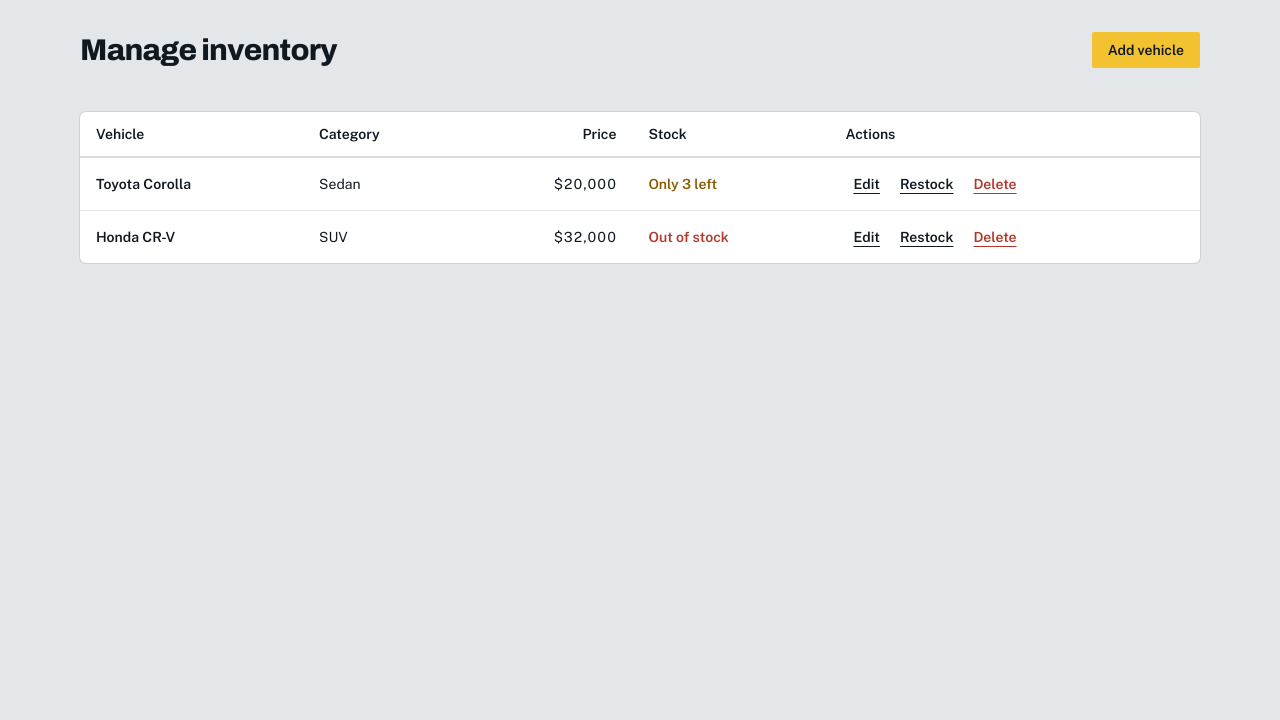
Scenario: add › keeps the form open and explains a server error
Expected: the column heading "Toyota Corolla" is shown, [96, 176, 191, 192]
Click the button "Add vehicle".
click(1146, 50)  # box [1092, 32, 1200, 68]
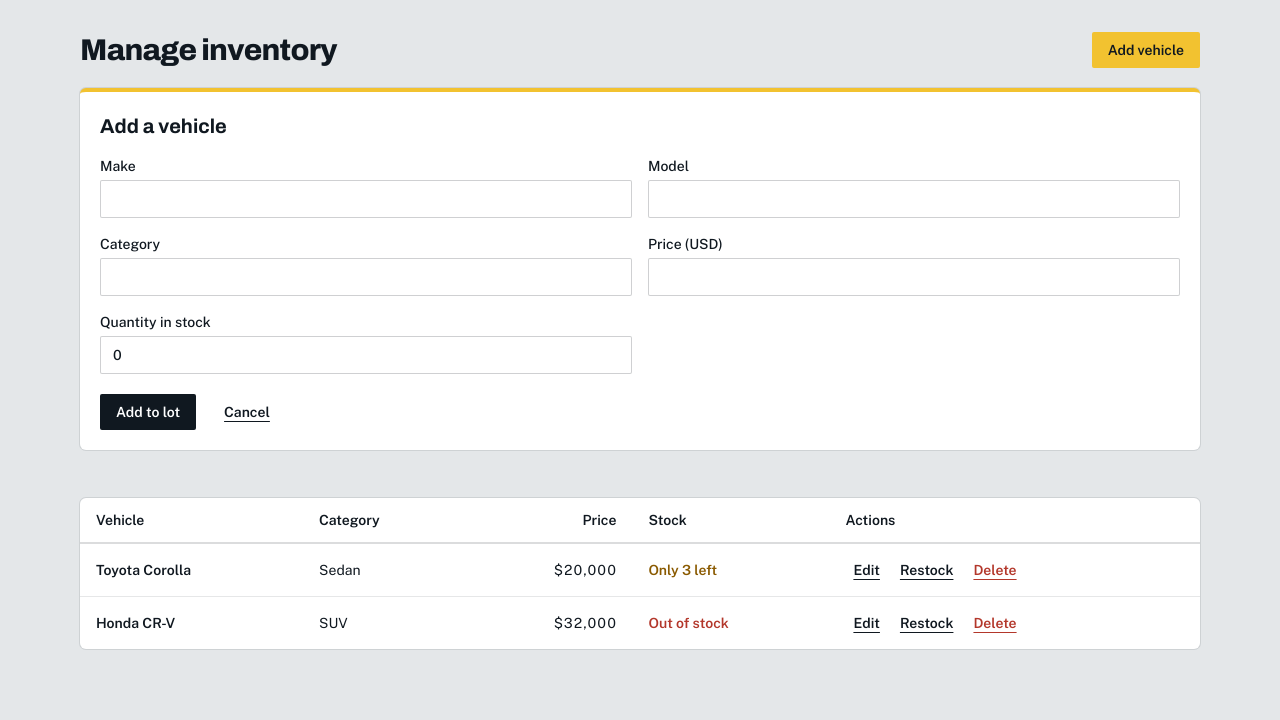
Type "Ford" into the field labelled "Make".
click(366, 199); type("Ford")  # box [100, 180, 632, 218]
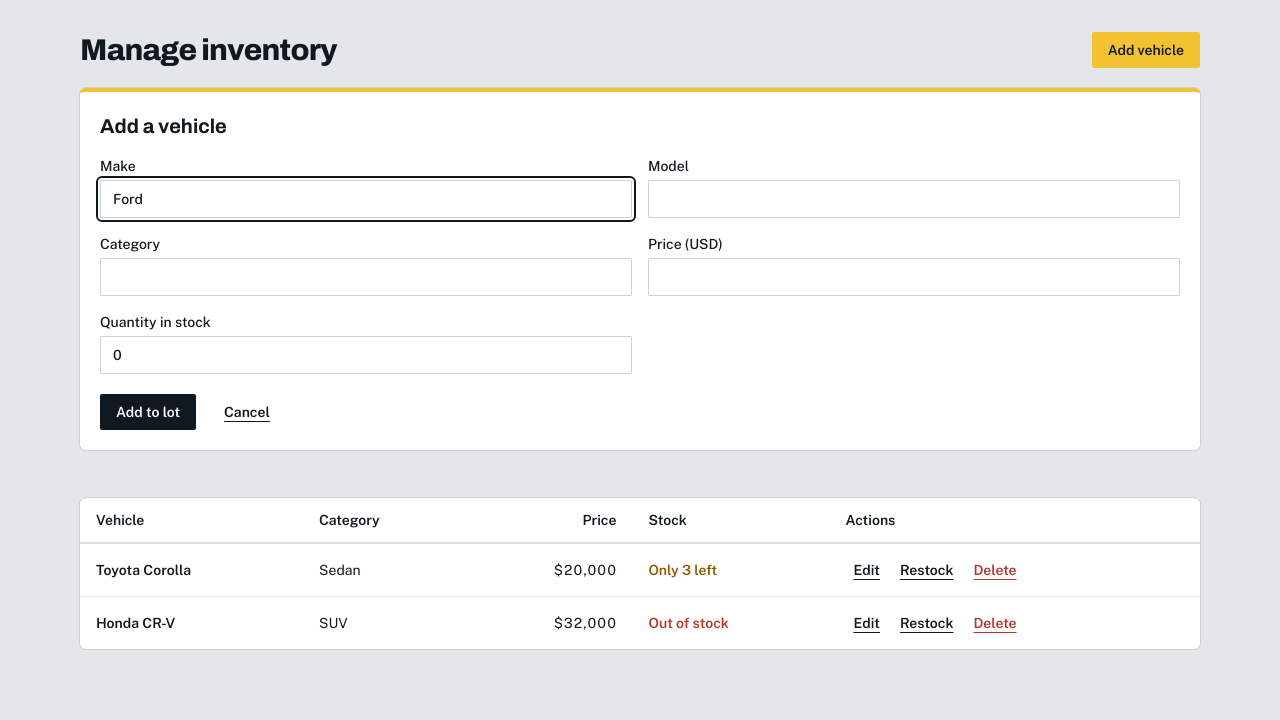
Type "F-150" into the field labelled "Model".
click(914, 199); type("F-150")  # box [648, 180, 1180, 218]
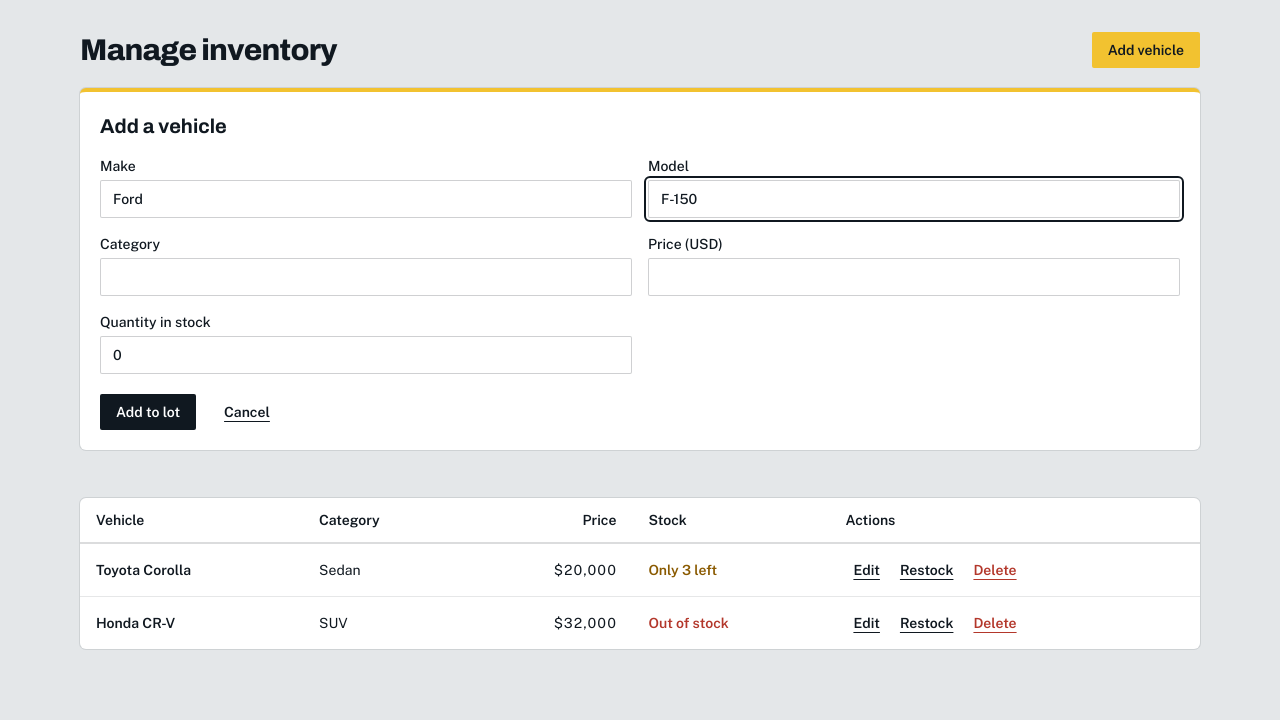
Type "Truck" into the field labelled "Category".
click(366, 277); type("Truck")  # box [100, 258, 632, 296]
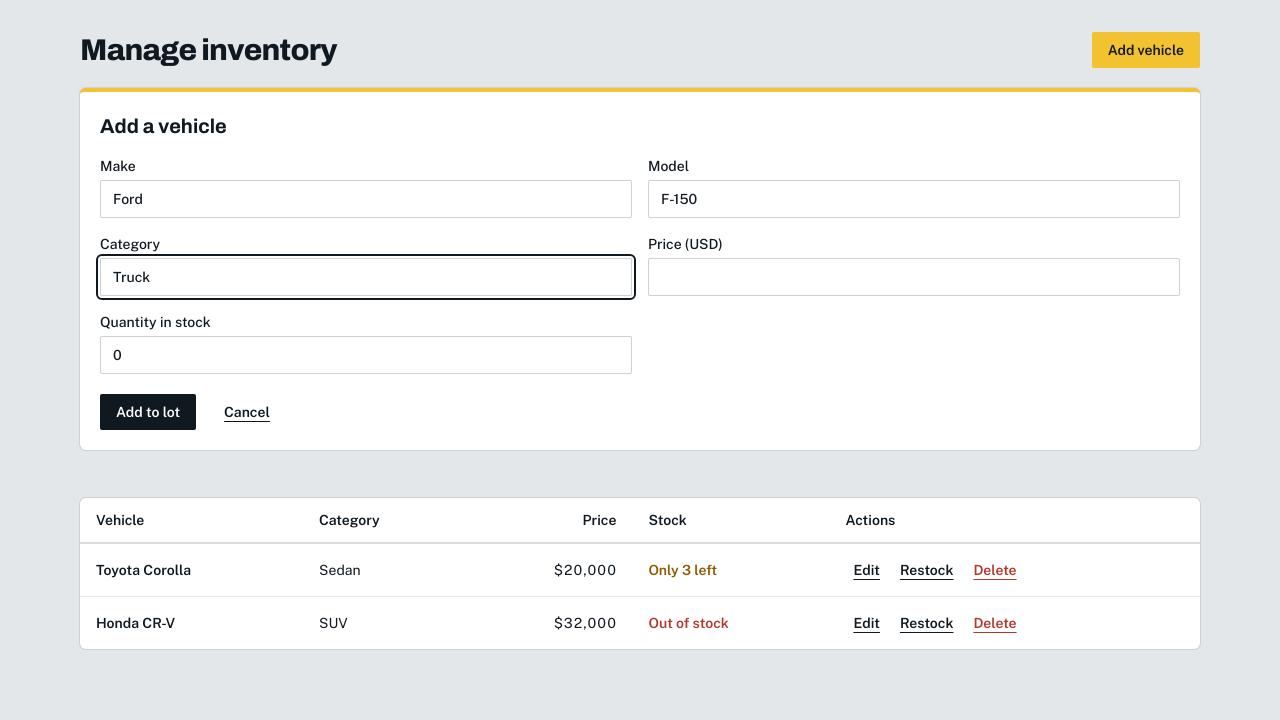
Type "45000" into the number field labelled "Price (USD)".
click(914, 277); type("45000")  # box [648, 258, 1180, 296]
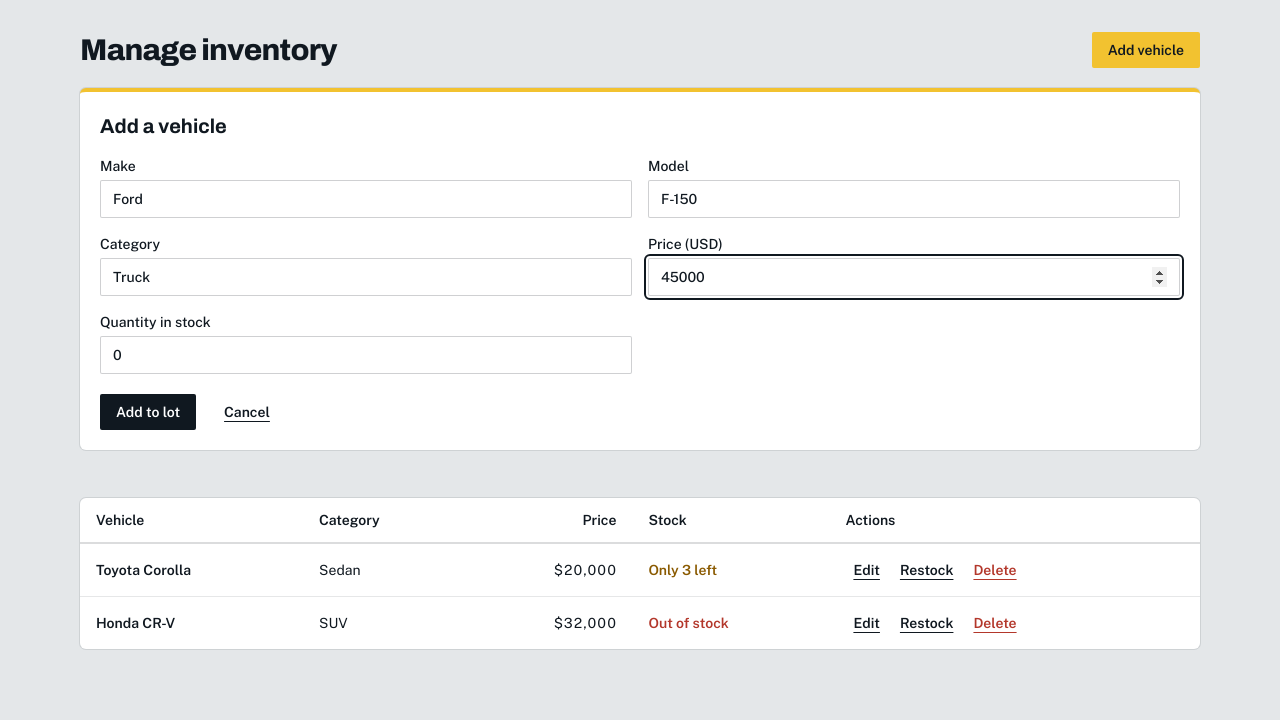
Click the button "Add to lot".
click(148, 412)  # box [100, 394, 196, 430]
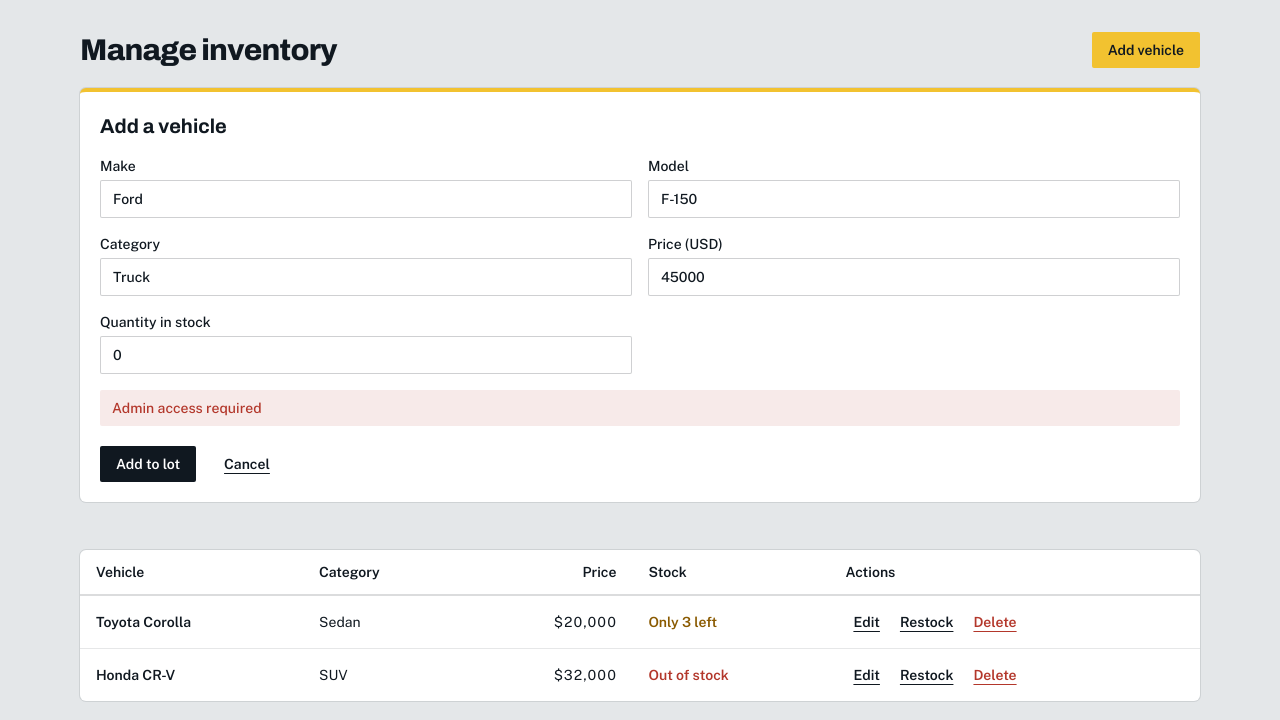
Now the heading "Add a vehicle" is shown, box [100, 115, 227, 137]
Now the message "Admin access required" is shown, box [112, 400, 262, 416]
